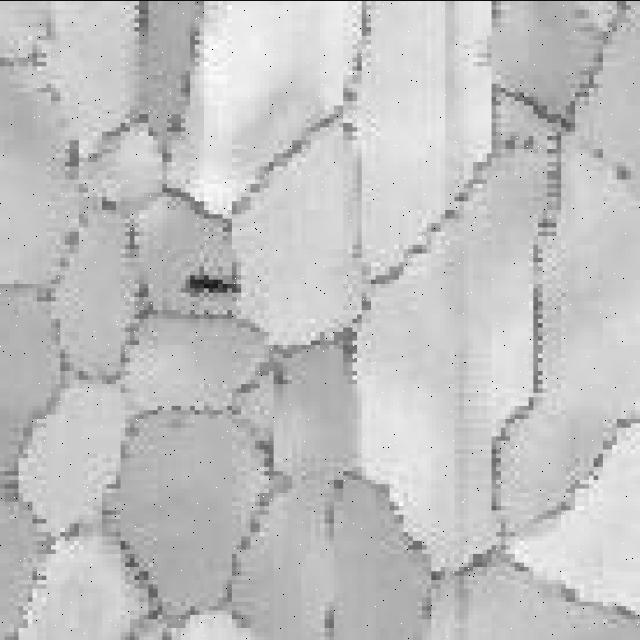good_void: (182, 267, 246, 300)
